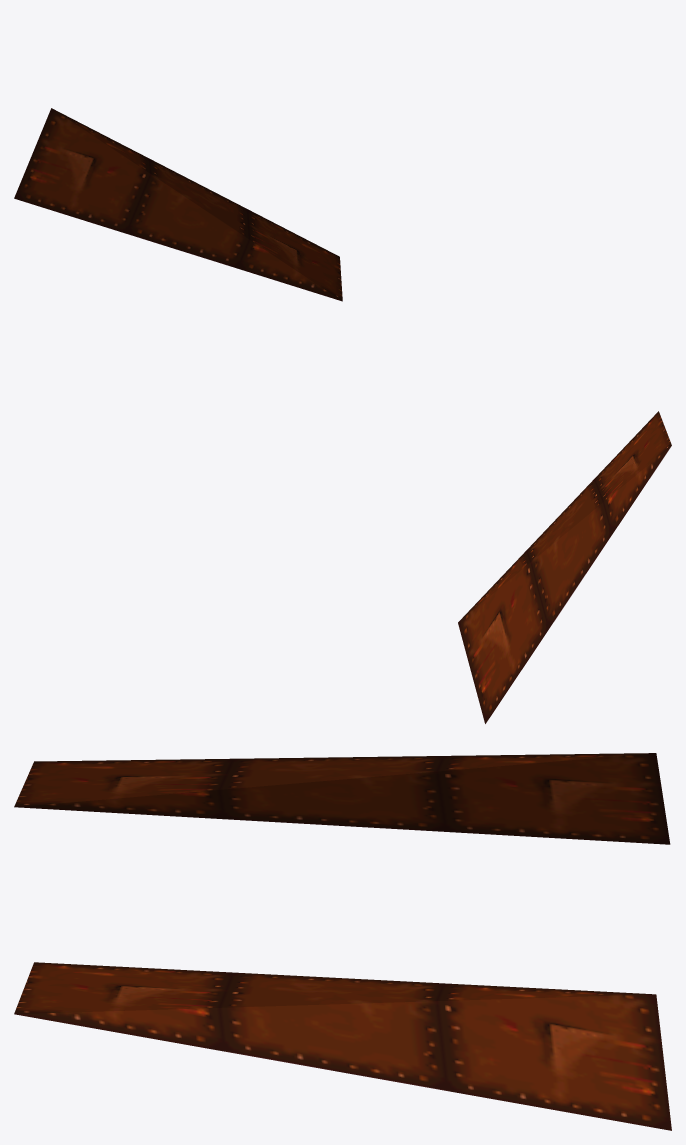
Rendered from Schiff_Heck1_1259.glb.
The picture shows the model from 3 angles, top to bottom: view 1: azimuth 30°, elevation 25°; view 2: azimuth 150°, elevation 25°; view 3: azimuth 270°, elevation 25°; orthographic projection. The views are drawn at different scales.
Visible parts, largest first — view 1: pPlaneShape20; view 2: pPlaneShape20; view 3: pPlaneShape41, pPlaneShape20.
Part boxes in pixels (box(x1,y1,x2,y2)): pPlaneShape20: box(14, 108, 342, 301); pPlaneShape20: box(458, 411, 671, 723); pPlaneShape41: box(14, 962, 671, 1130); pPlaneShape20: box(14, 753, 670, 844).
Bounding box in the file's own units: 2.37 × 0.5142 × 2.3.
Materials: 2 (2 with a texture image).
